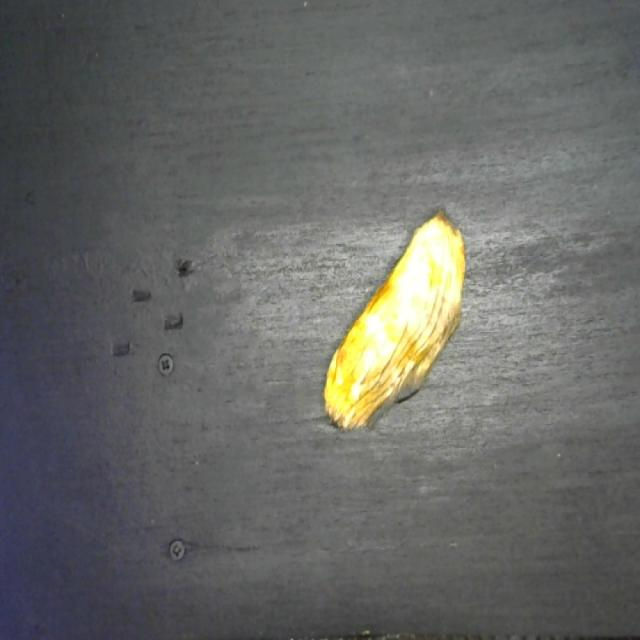biodegradable: (318, 203, 469, 440)
